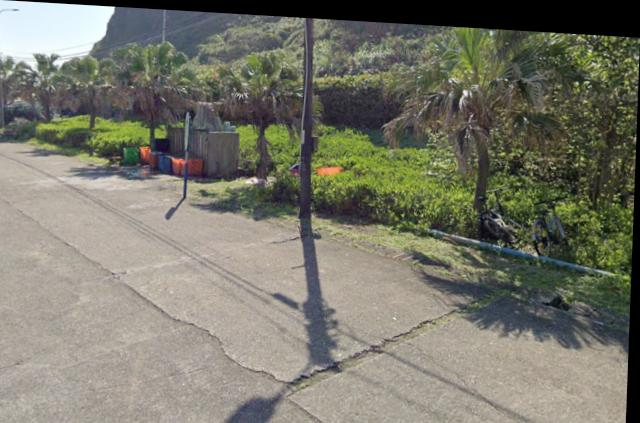pollute: (123, 134, 206, 175), (246, 173, 278, 188), (316, 163, 345, 174), (287, 159, 300, 174)
